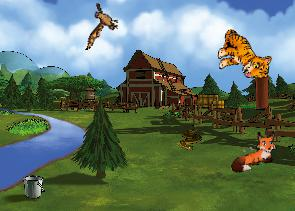eagle: (81, 1, 120, 50)
fox: (224, 127, 283, 175)
tiger: (214, 28, 274, 81)
